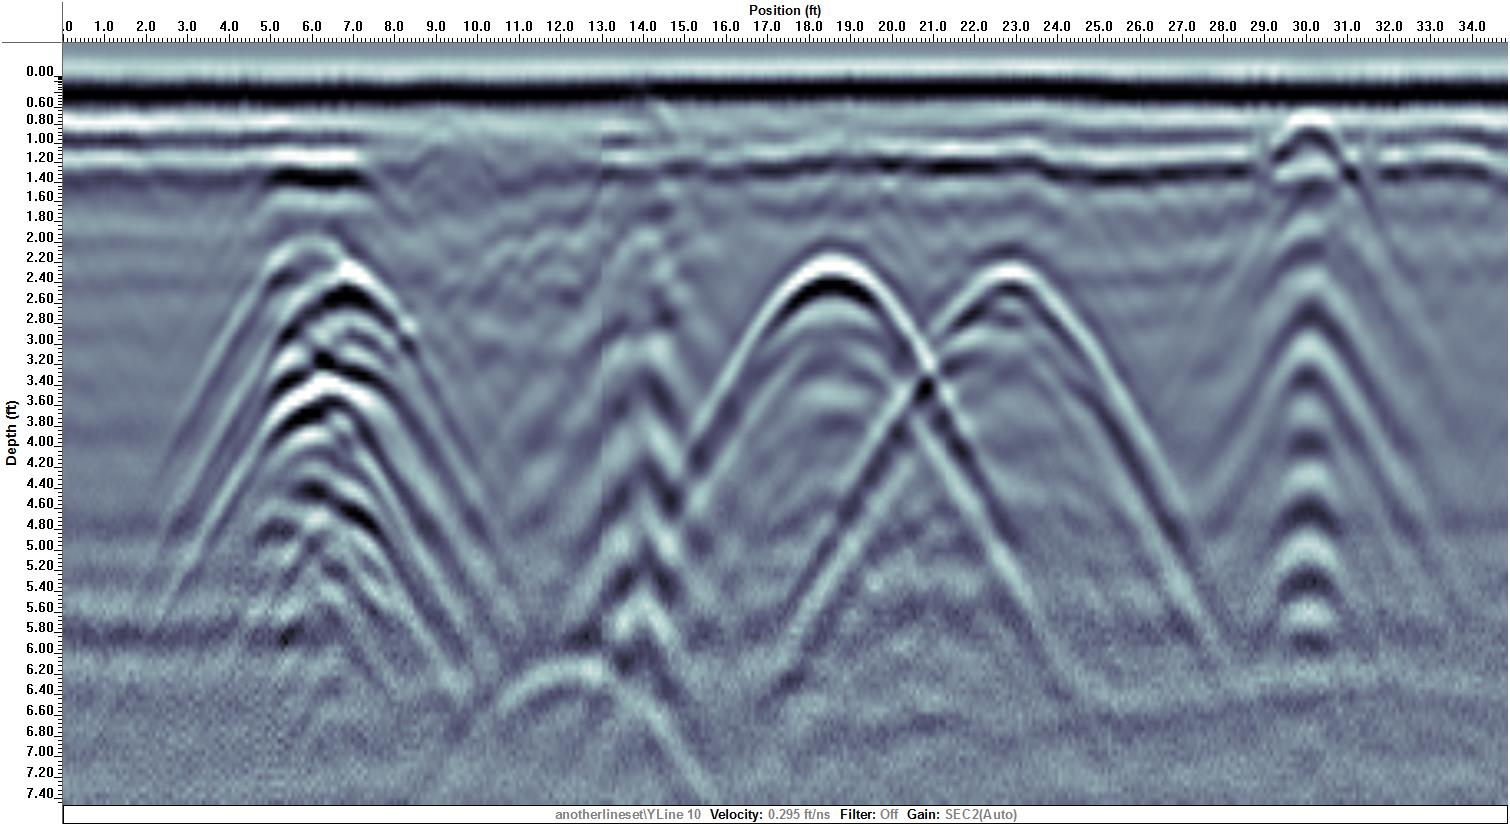hyperbola: (884, 251, 1152, 635), (706, 223, 966, 448)
